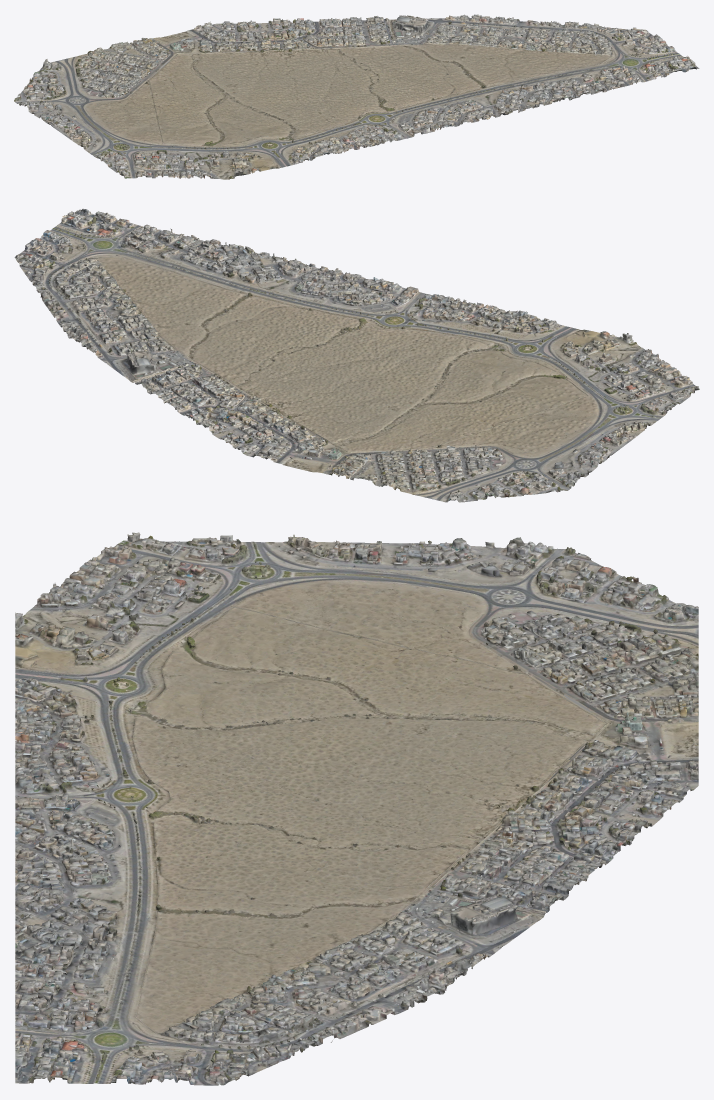
The picture shows the model from 3 angles, top to bottom: view 1: azimuth 30°, elevation 25°; view 2: azimuth 150°, elevation 25°; view 3: azimuth 270°, elevation 25°; orthographic projection. The views are drawn at different scales.
Parts seen in each view (by area): view 1: BHR_002_M3_2_MadinatHamadGeneral; view 2: BHR_002_M3_2_MadinatHamadGeneral; view 3: BHR_002_M3_2_MadinatHamadGeneral.
Part boxes in pixels (bbox=[...]): BHR_002_M3_2_MadinatHamadGeneral: bbox=[14, 14, 699, 179]; BHR_002_M3_2_MadinatHamadGeneral: bbox=[14, 208, 699, 502]; BHR_002_M3_2_MadinatHamadGeneral: bbox=[15, 532, 698, 1085].
Bounding box in the file's own units: 1681 × 42.48 × 908.
1 material, 1 textured.
